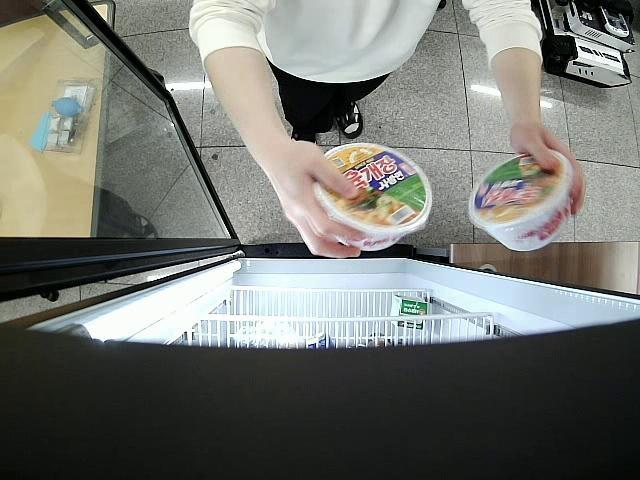09_yukGaeJang: (312, 142, 433, 252), (468, 150, 575, 252)
